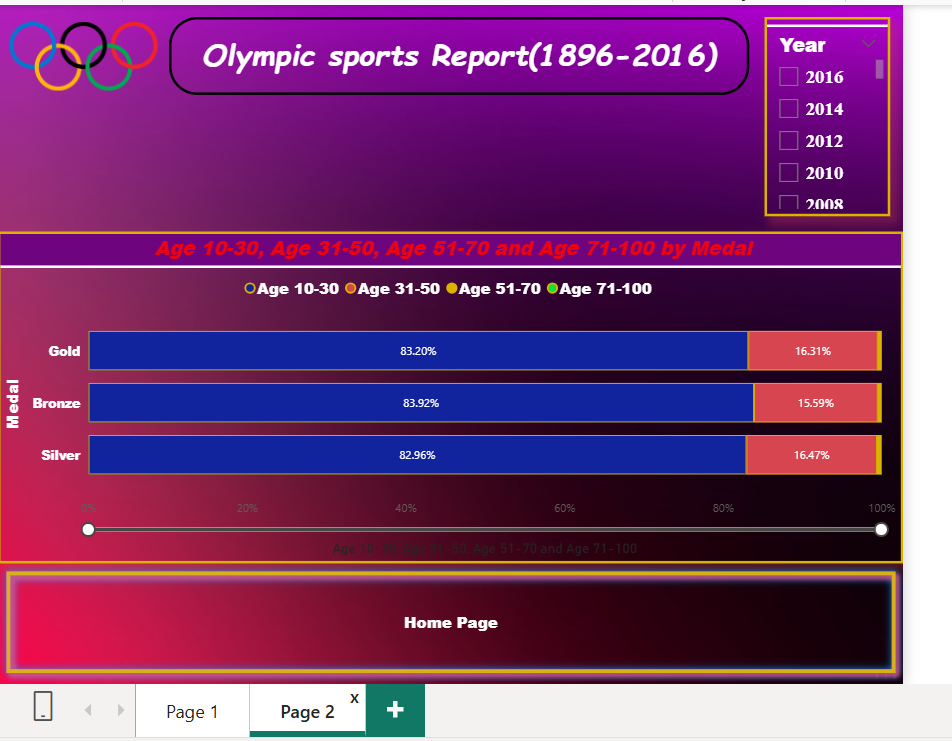

Layout of this report page (visuals, bound fields, positions):
{"tool":"powerbi","page":{"name":" Page 2","canvas":[960,720],"ordinal":1},"visuals":[{"type":"image","box":[0,12.7,181.3,82.7],"z":0},{"type":"textbox","box":[181.3,12.7,615.6,82.7],"z":1000},{"type":"slicer","fields":{"Values":["athlete_events.Year"]},"box":[812.8,12.7,133.6,211.6],"z":2000},{"type":"hundredPercentStackedBarChart","fields":{"Category":["athlete_events.Medal"],"Y":["athlete_events.Age 10-30","athlete_events.Age 31-50","athlete_events.Age 51-70","athlete_events.Age 71-100"]},"box":[0,240,960,351.7],"z":3000},{"type":"actionButton","box":[0,591.7,960.7,125.7],"z":4000}]}

Visuals, with their boxes on the page's 960x720 design canvas (x1, y1, x2, y2). These are canvas units, not pixel positions in the 952x741 screenshot, which may show the page scaled, cropped or inside an application window:
image: [x1=0, y1=13, x2=181, y2=95]
textbox: [x1=181, y1=13, x2=797, y2=95]
slicer - athlete_events.Year: [x1=813, y1=13, x2=946, y2=224]
hundredPercentStackedBarChart - athlete_events.Medal x athlete_events.Age 10-30: [x1=0, y1=240, x2=960, y2=592]
actionButton: [x1=0, y1=592, x2=961, y2=717]
